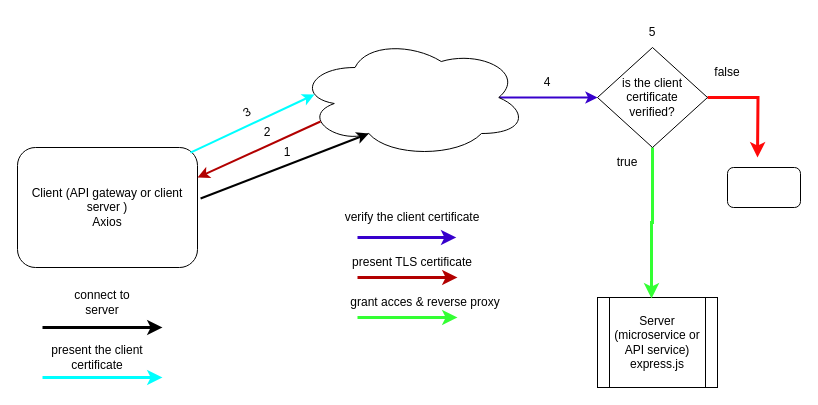
Image size: 818x405. Some labels were removed from this diagram. The box of each missing label's shape, as (x1, y1, x2, y2) in pixels:
nginx: (296, 36, 528, 158)
reject: (726, 166, 800, 208)
